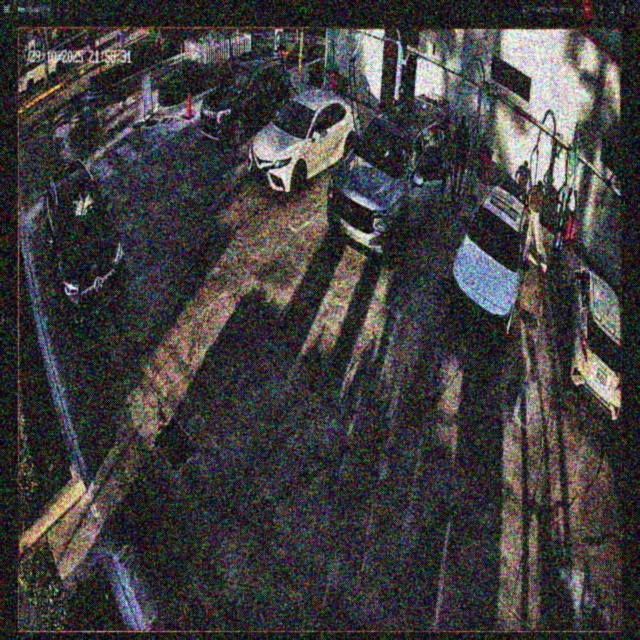Car: (327, 99, 452, 266), (447, 188, 533, 342), (250, 88, 360, 187), (205, 59, 285, 151)
